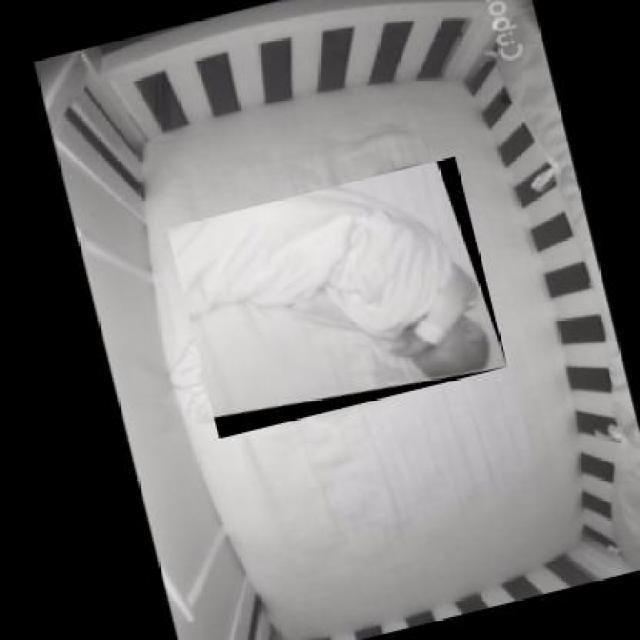child: (163, 155, 506, 439)
